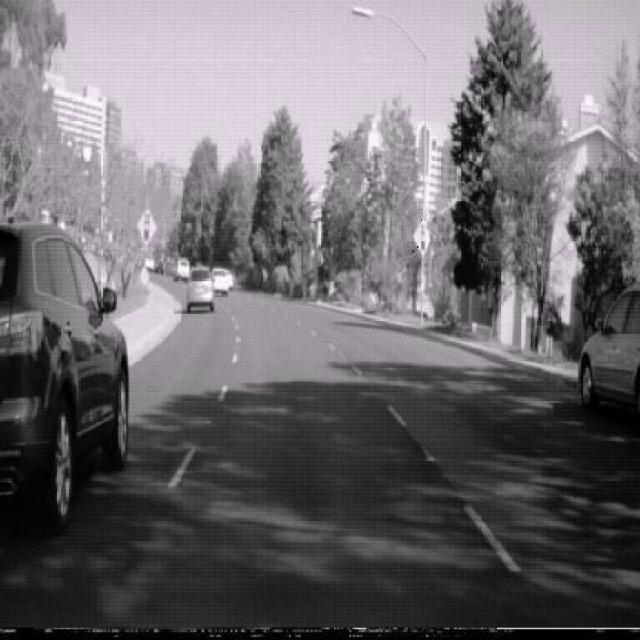signalAhead: (135, 205, 157, 248), (412, 216, 431, 256)
